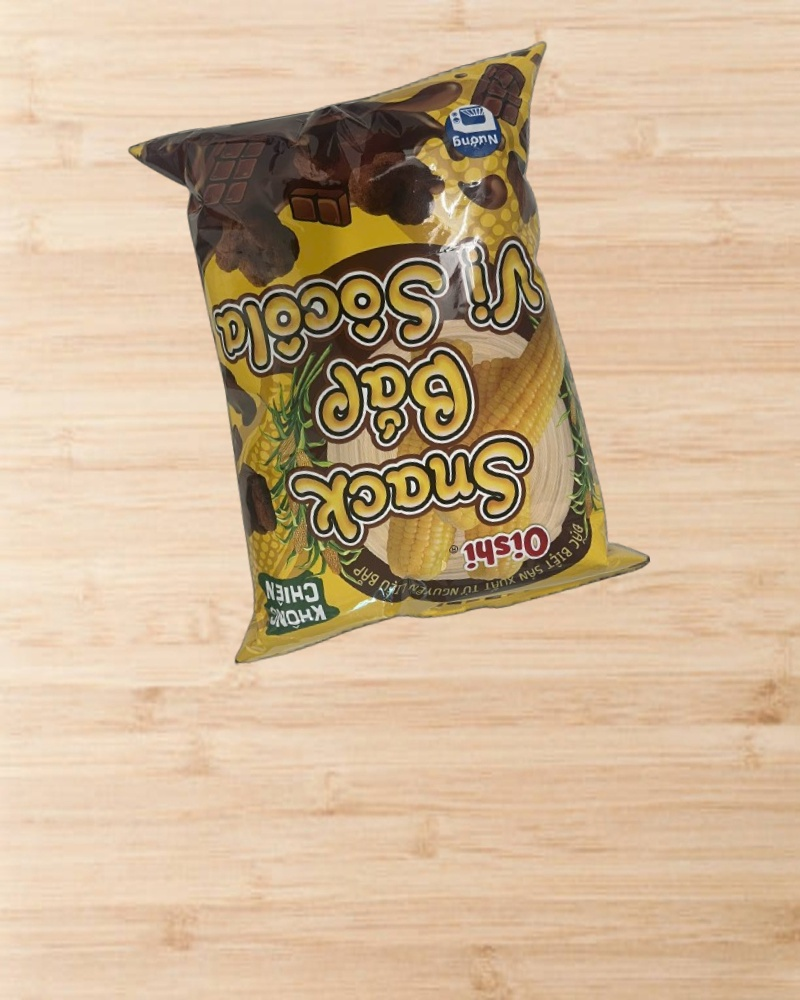Snack socola: (125, 42, 655, 666)
